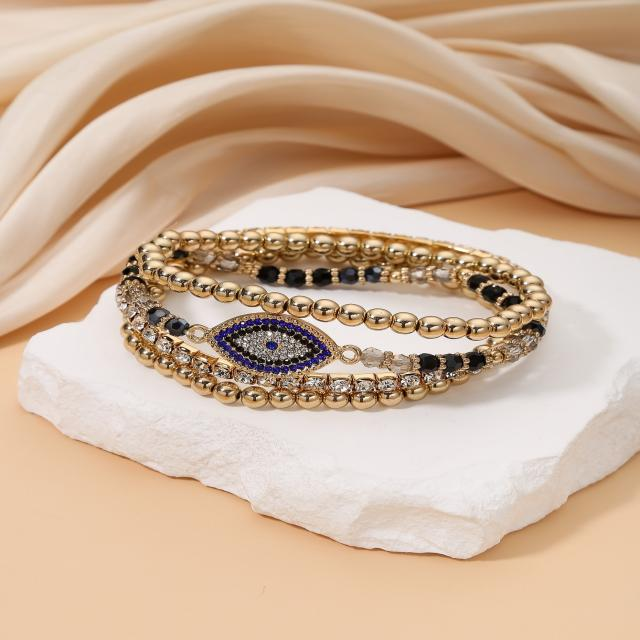bracelet: (80, 166, 572, 454)
